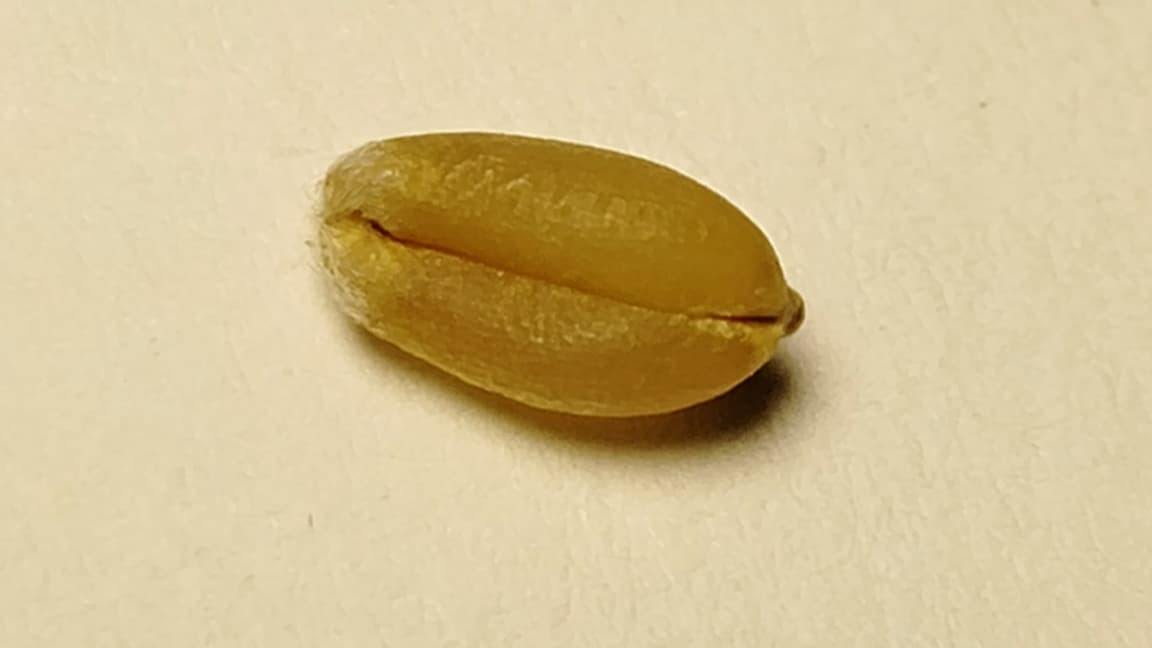healthy: (319, 132, 801, 416)
